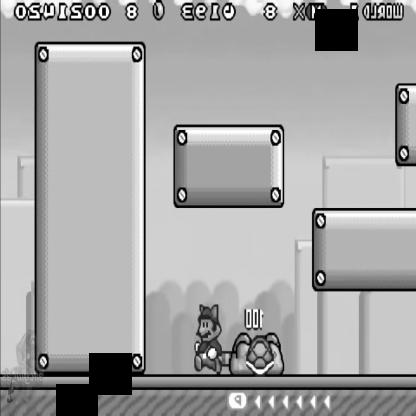Mario: (190, 298, 234, 381)
caparazon: (245, 332, 275, 373)
